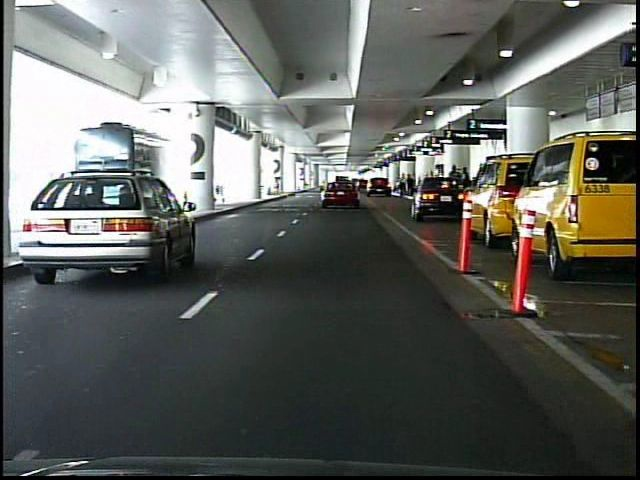person: (447, 163, 464, 207), (460, 166, 475, 208), (400, 172, 409, 196), (407, 173, 415, 196)
